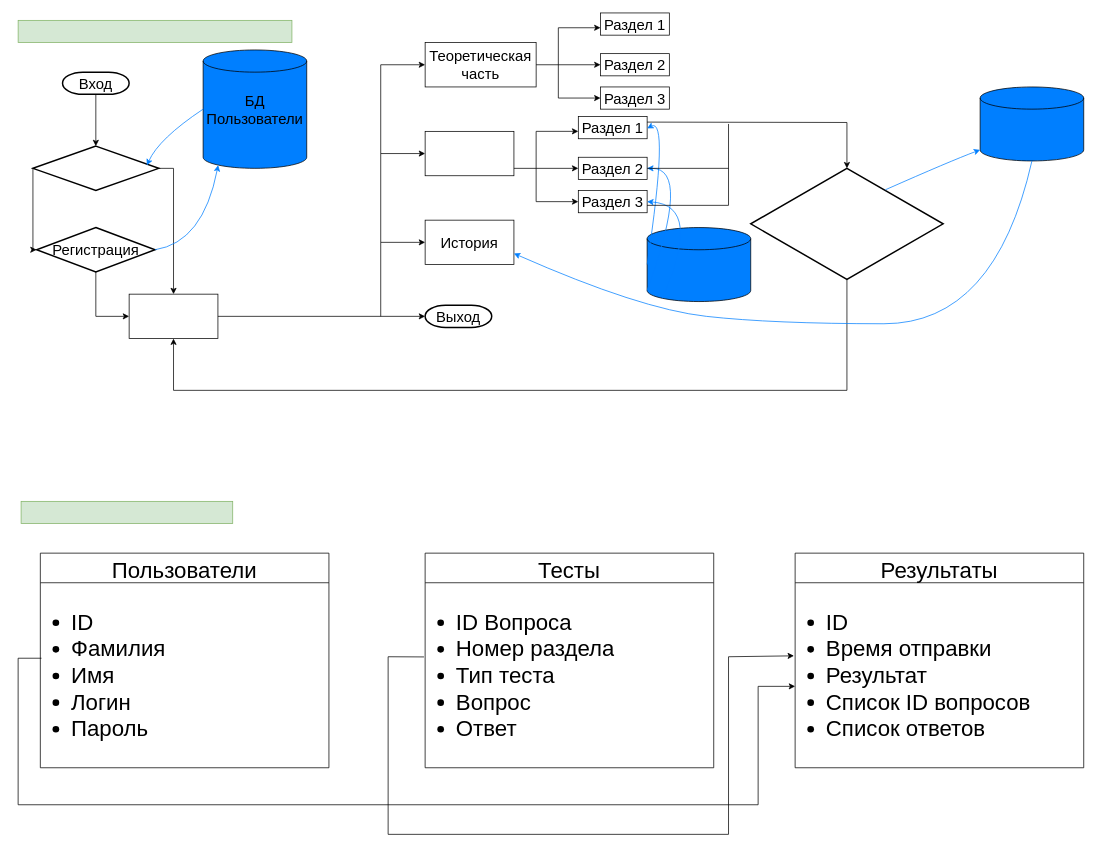
The diagram is 1097 pixels wide and 853 high, and some of its shapes have lost their labels. The centre of each missing label's shape, as x and y in pixels:
"Авторизация" belongs at point 95,168.
"БД Результаты" belongs at point 1031,123.
"БД Тесты" belongs at point 698,264.
"Концептуальная модель" belongs at point 154,31.
"Меню" belongs at point 173,316.
"Результаты: Вывод и запись в БД" belongs at point 847,223.
"Схема базы данных" belongs at point 126,512.
"Тестовая часть" belongs at point 469,153.
